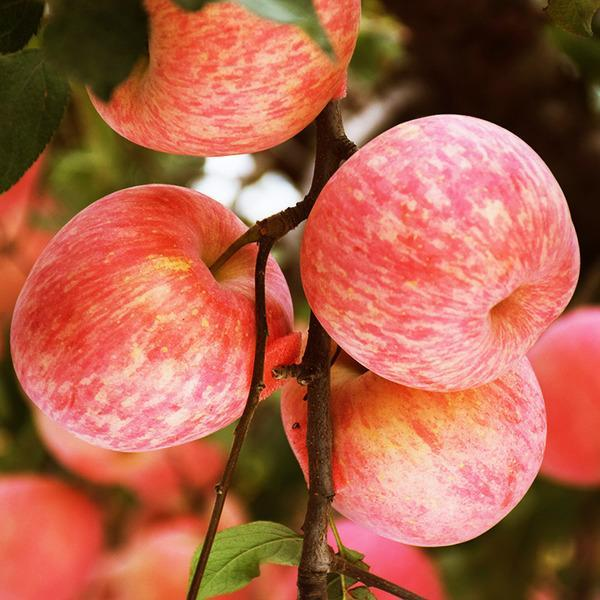apple: (6, 183, 301, 452), (298, 113, 577, 390), (277, 370, 550, 546), (71, 2, 361, 159)
